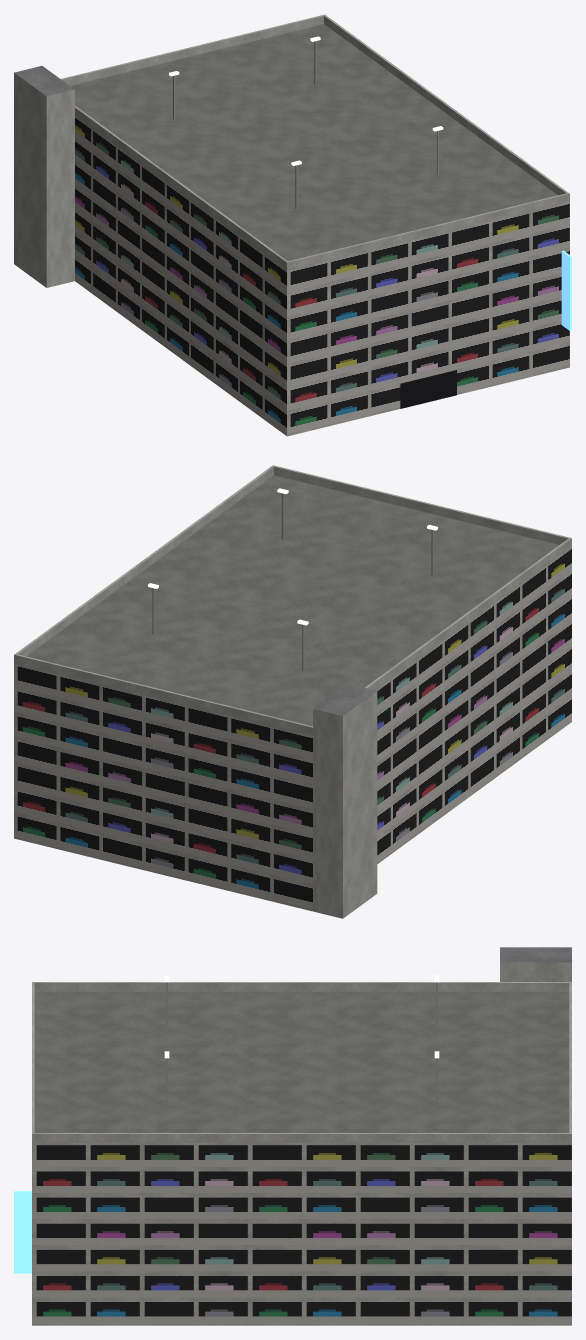
The model's file is 086_parking_garage.glb.
The picture shows the model from 3 angles, top to bottom: view 1: azimuth 30°, elevation 25°; view 2: azimuth 150°, elevation 25°; view 3: azimuth 270°, elevation 25°; orthographic projection. The views are drawn at different scales.
Visible parts, largest first — view 1: 086_parking_garage; view 2: 086_parking_garage; view 3: 086_parking_garage.
Part boxes in pixels (left/top/right/bottom): 086_parking_garage: left=14, top=14, right=571, bottom=436; 086_parking_garage: left=14, top=465, right=571, bottom=918; 086_parking_garage: left=14, top=947, right=571, bottom=1325.
Bounding box in the file's own units: 44 × 28.7 × 62.
Materials: 8 (4 with a texture image).
